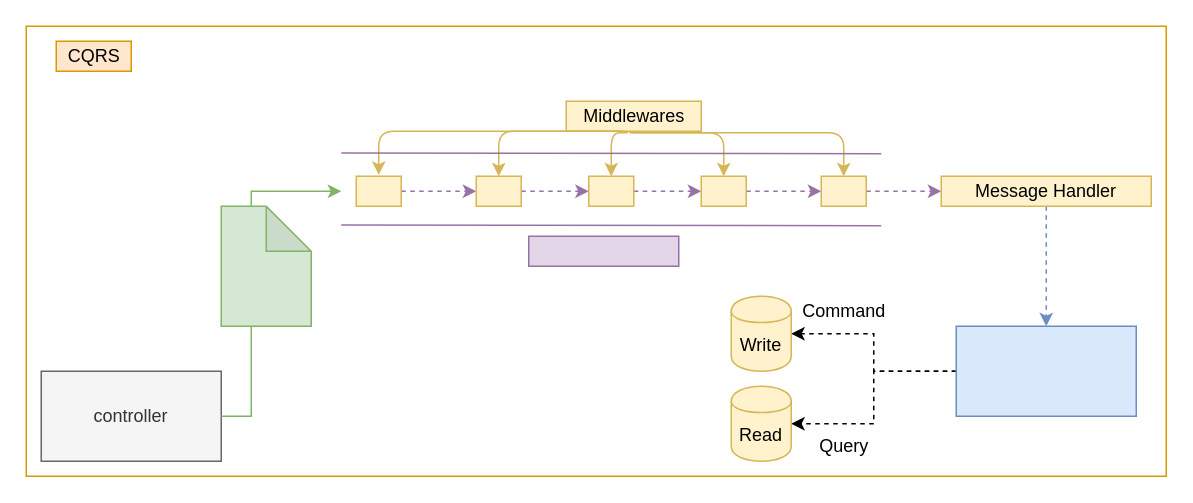
This 1193x503 diagram has some shape labels left out. Here are the shapes that lost their labels. From the top down, the centre of each, then its label:
the point at 265,265: Message
the point at 603,250: Message Bus
the point at 1045,370: Service
